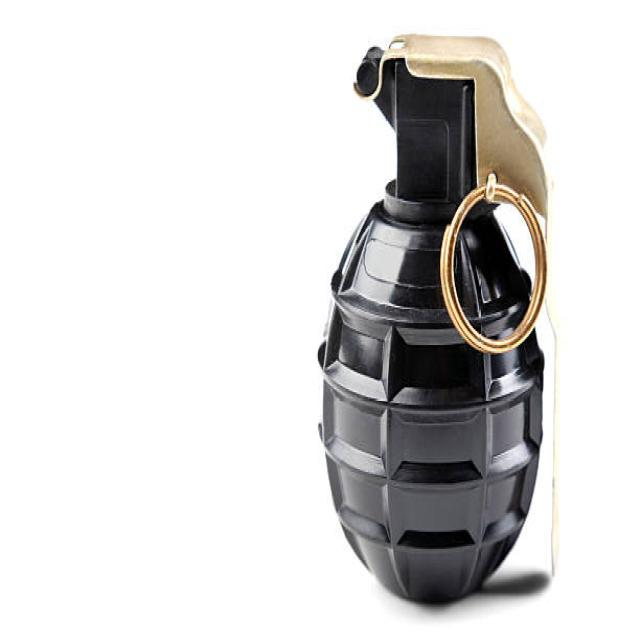grenade: (309, 21, 574, 613)
